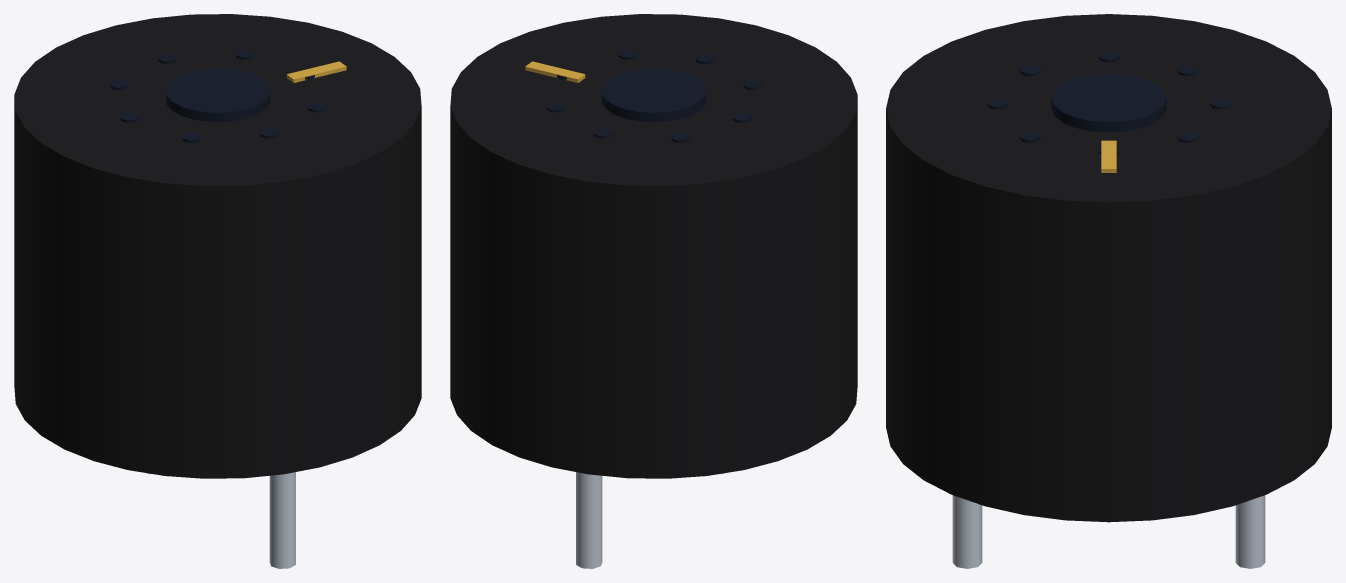
Rendered from samesky-cmi-1295ic-0385t-reference.glb.
The picture shows the model from 3 angles, left to right: view 1: azimuth 30°, elevation 25°; view 2: azimuth 150°, elevation 25°; view 3: azimuth 270°, elevation 25°; orthographic projection. The views are drawn at different scales.
Parts seen in each view (by area): view 1: active buzzer 12x9.5 mm, buzzer acoustic port, buzzer pin 1, buzzer polarity mark; view 2: active buzzer 12x9.5 mm, buzzer acoustic port, buzzer pin 2, buzzer polarity mark; view 3: active buzzer 12x9.5 mm, buzzer acoustic port, buzzer pin 1, buzzer pin 2.
Part boxes in pixels (box(x1,y1,x2,y2)): active buzzer 12x9.5 mm: box(14, 14, 421, 478); buzzer acoustic port: box(165, 68, 270, 122); buzzer pin 1: box(269, 472, 295, 568); buzzer polarity mark: box(286, 61, 346, 82); active buzzer 12x9.5 mm: box(450, 14, 857, 478); buzzer acoustic port: box(601, 68, 706, 122); buzzer pin 2: box(576, 472, 602, 568); buzzer polarity mark: box(525, 61, 585, 82); active buzzer 12x9.5 mm: box(886, 14, 1331, 522); buzzer acoustic port: box(1051, 73, 1166, 132); buzzer pin 1: box(952, 495, 982, 568); buzzer pin 2: box(1235, 495, 1265, 568).
Bounding box in the file's own units: 12 × 13.8 × 12.
